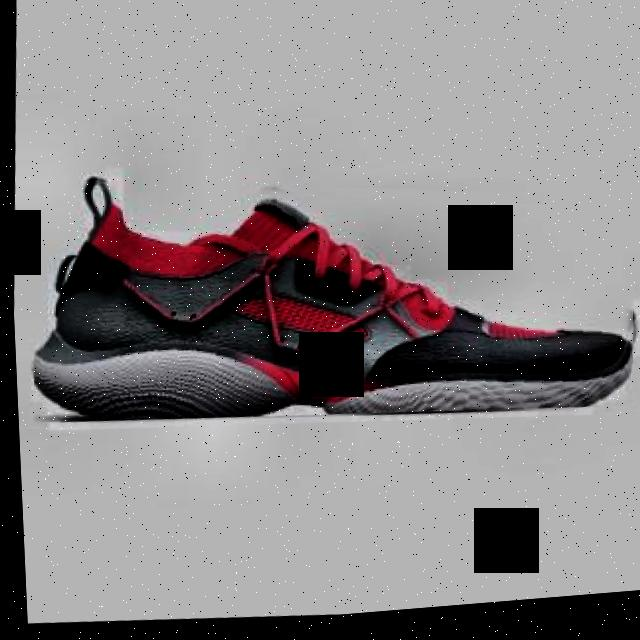shoe: (21, 142, 640, 455)
